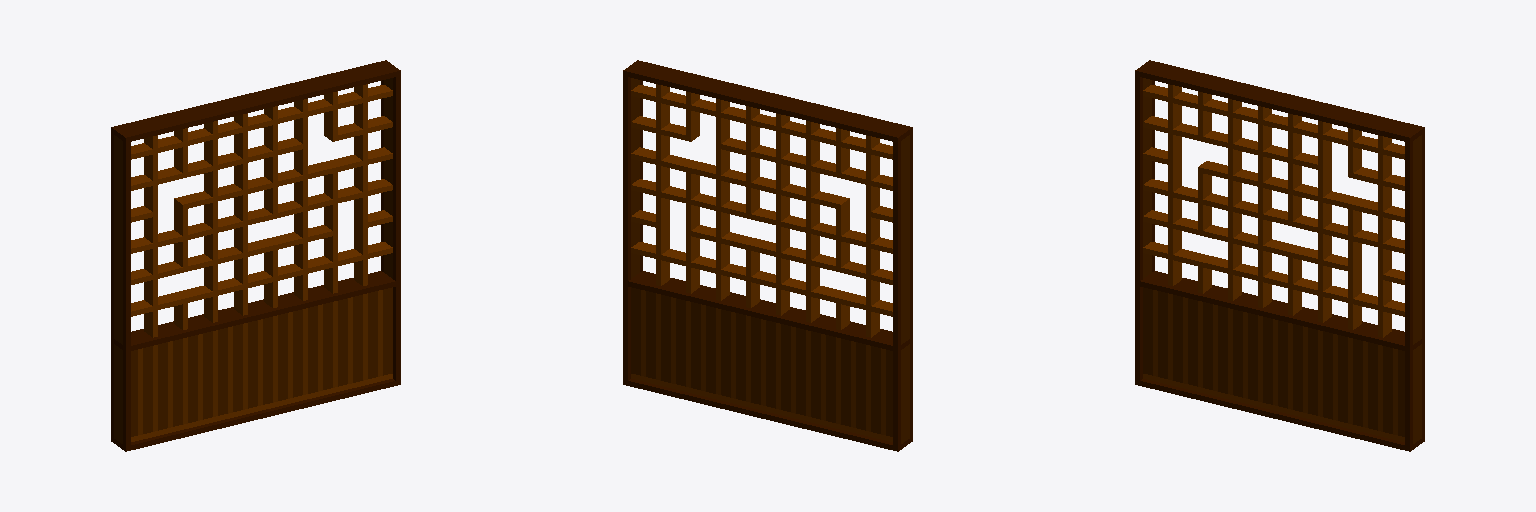
3 renders of one model, left to right at view 1: azimuth 30°, elevation 25°; view 2: azimuth 150°, elevation 25°; view 3: azimuth 330°, elevation 25°, orthographic.
Parts seen in each view (by area): view 1: object 1; view 2: object 1; view 3: object 1.
Boxes of the visible parts, x1=… form: object 1: x1=111, y1=60, x2=400, y2=451; object 1: x1=623, y1=60, x2=912, y2=451; object 1: x1=1135, y1=60, x2=1424, y2=451.
Size of the model in its own units: 5.5 by 6 by 0.5.
1 materials, 1 textured.